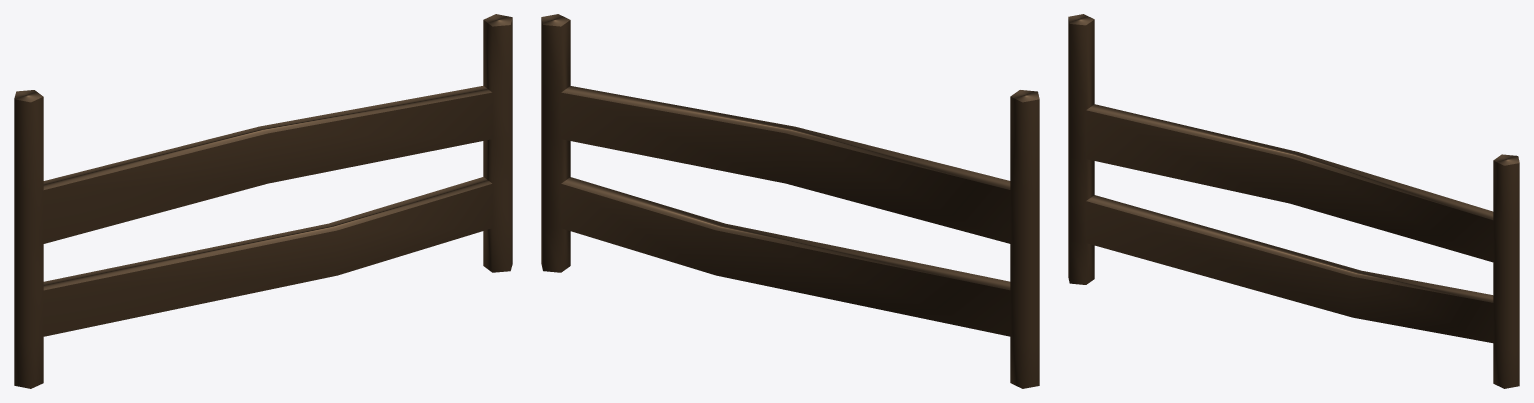
File: Fence.fbx
The picture shows the model from 3 angles, left to right: view 1: azimuth 30°, elevation 25°; view 2: azimuth 150°, elevation 25°; view 3: azimuth 330°, elevation 25°; orthographic projection. The views are drawn at different scales.
Visible parts, largest first — view 1: Cylinder.001; view 2: Cylinder.001; view 3: Cylinder.001.
Part boxes in pixels (x1=…): Cylinder.001: x1=14, y1=14, x2=512, y2=388; Cylinder.001: x1=541, y1=14, x2=1039, y2=388; Cylinder.001: x1=1068, y1=14, x2=1519, y2=388.
Size of the model in its own units: 1969 by 1081 by 103.
